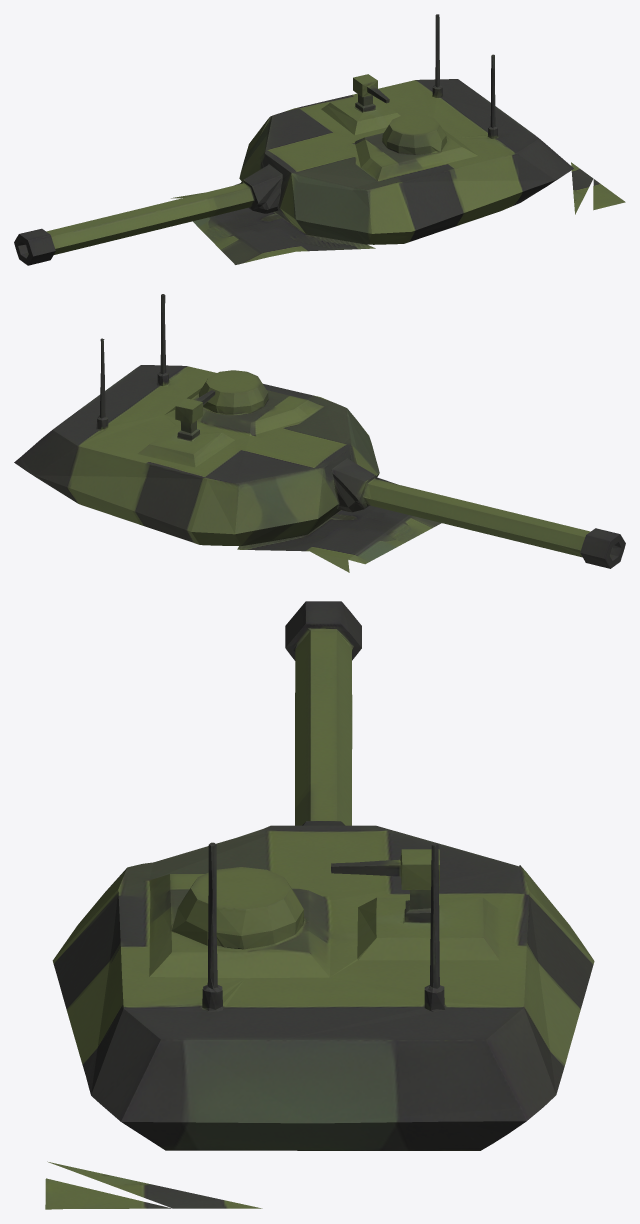
File: tank_turret.obj
The picture shows the model from 3 angles, top to bottom: view 1: azimuth 30°, elevation 25°; view 2: azimuth 150°, elevation 25°; view 3: azimuth 270°, elevation 25°; orthographic projection. The views are drawn at different scales.
Bounding box in the file's own units: 1.82 × 0.4769 × 0.8106.
1 material, 1 textured.
